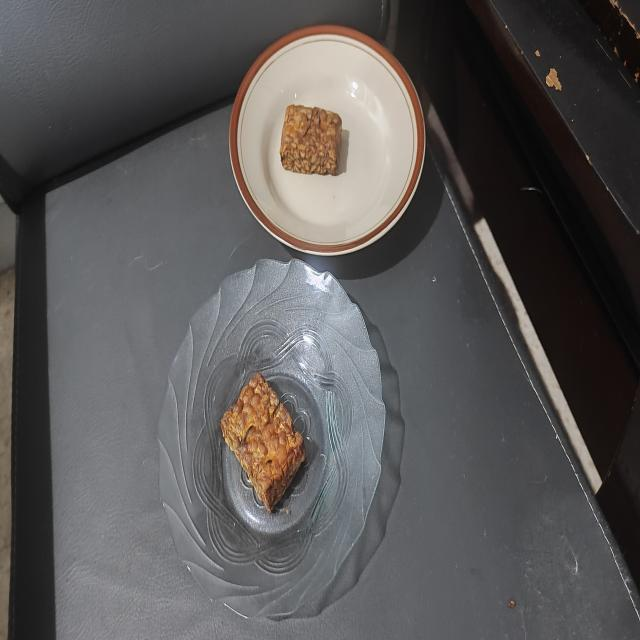tempe_goreng: (221, 373, 305, 512), (280, 105, 342, 175)
